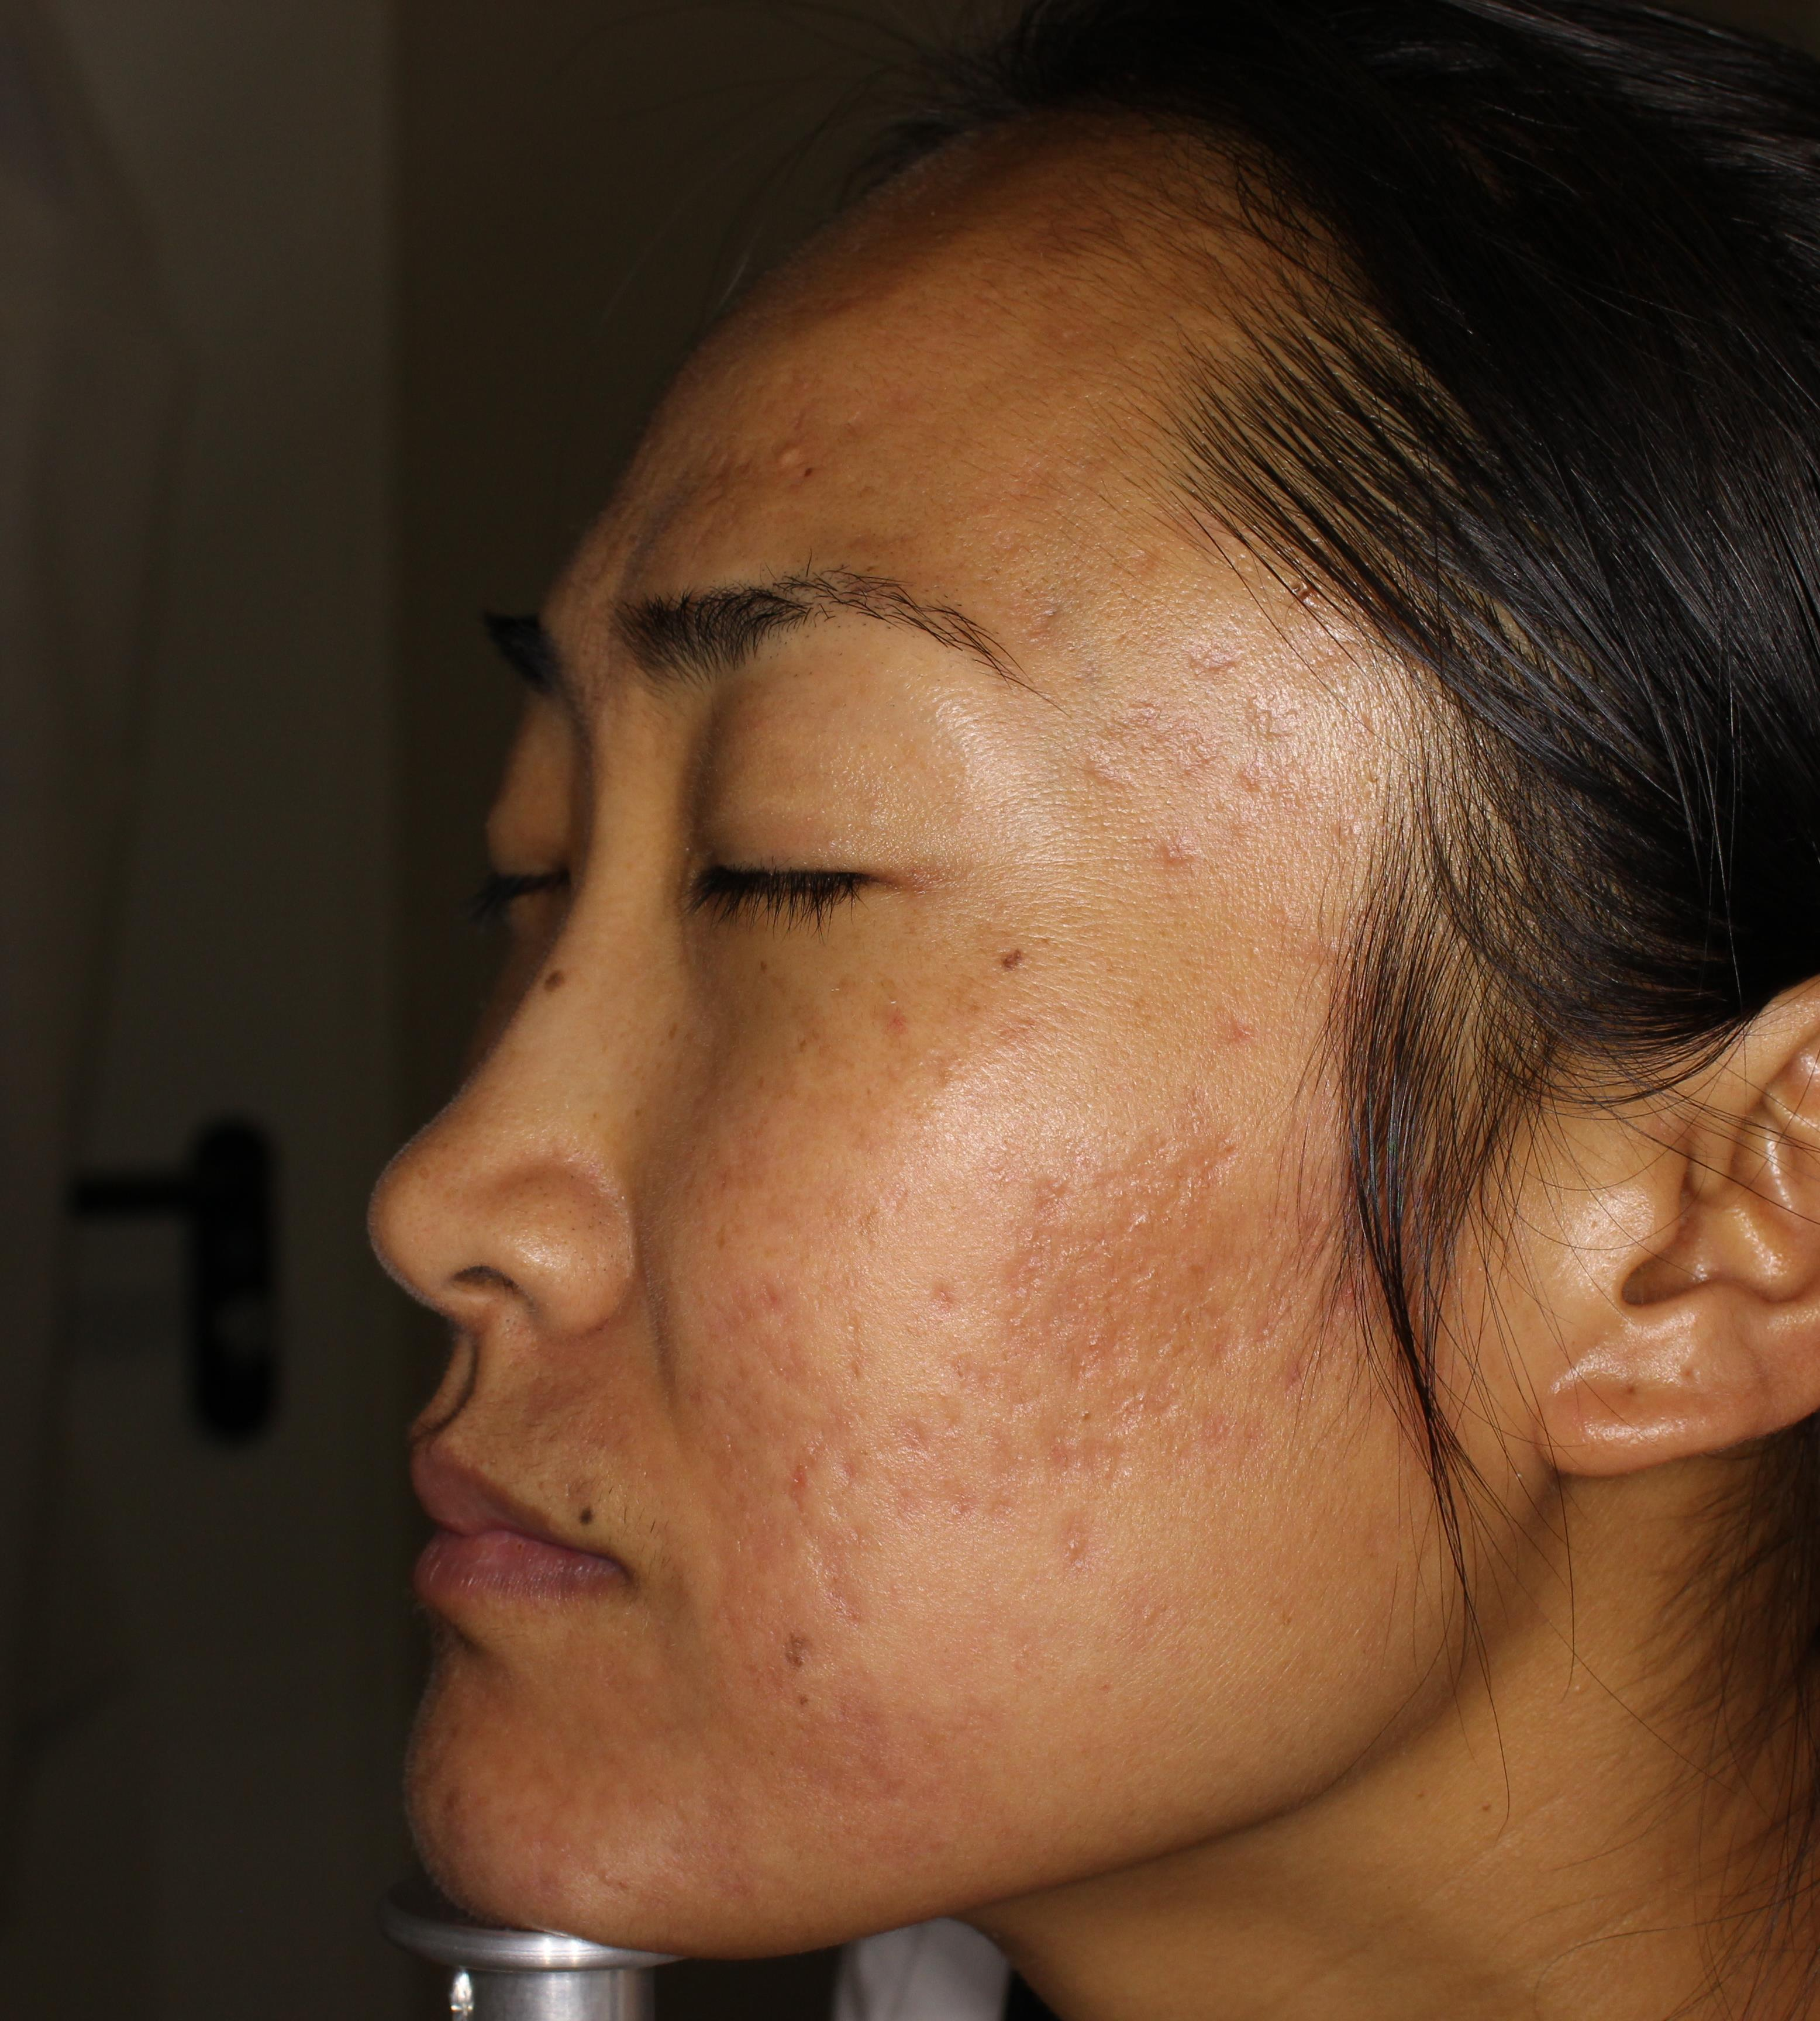fore: (1207, 985, 1274, 1092), (762, 425, 820, 518), (750, 1266, 812, 1352), (771, 1447, 826, 1522), (1149, 827, 1210, 881), (870, 994, 924, 1045)
